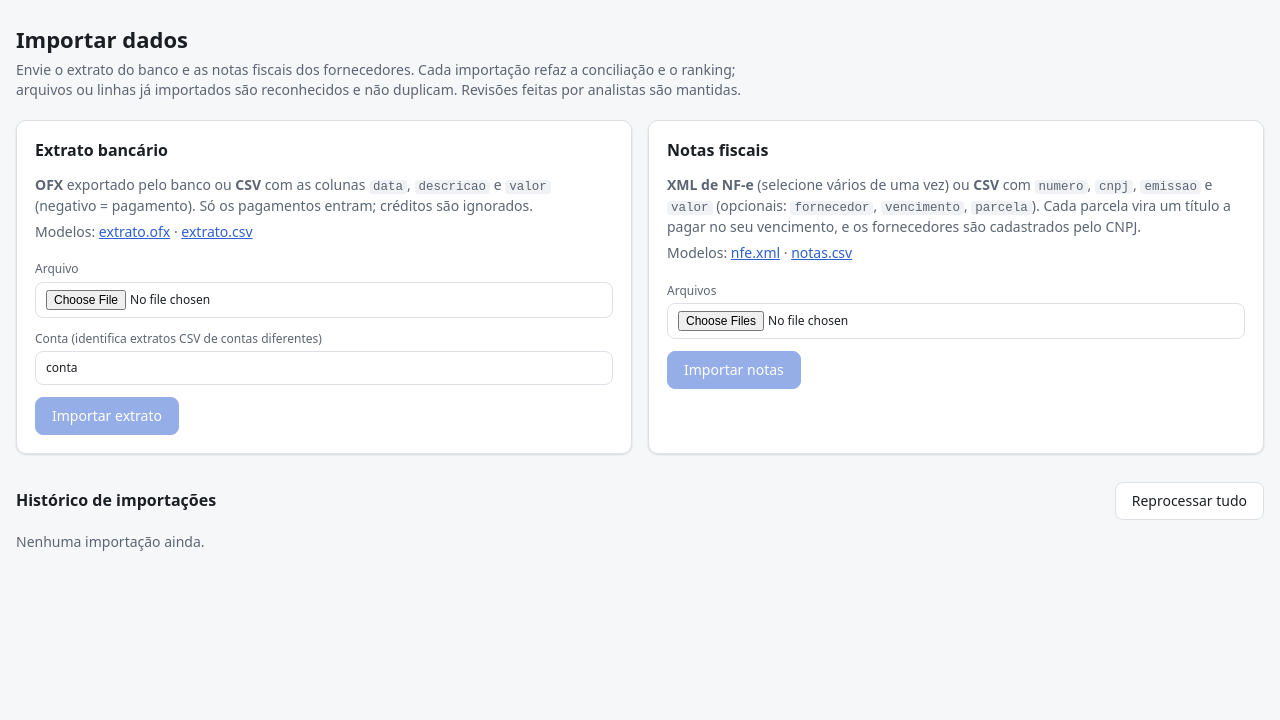
Scenario: ImportCenter › reprocesses on demand
Step 1. Click the button "Reprocessar tudo" → (1189, 501), box [1115, 482, 1264, 520]
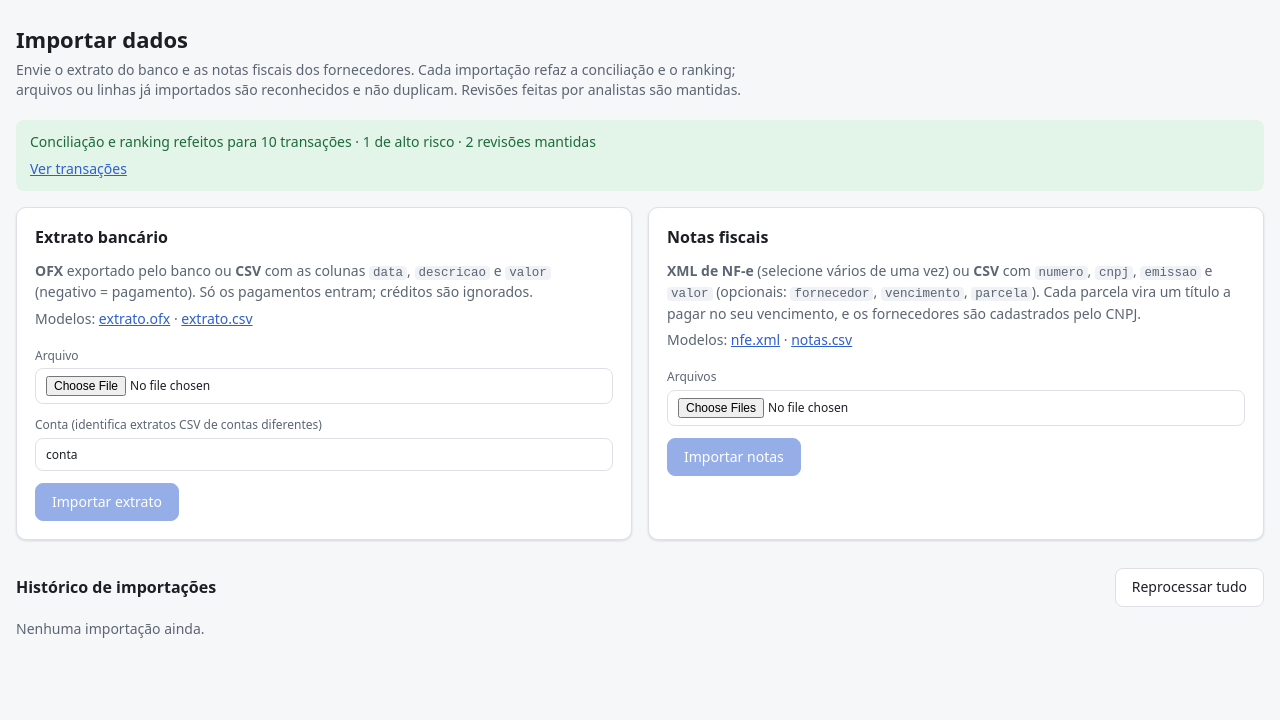
Now the message shows "10 transações · 1 de alto risco · 2 revisões mantidas", box [30, 132, 596, 152]
